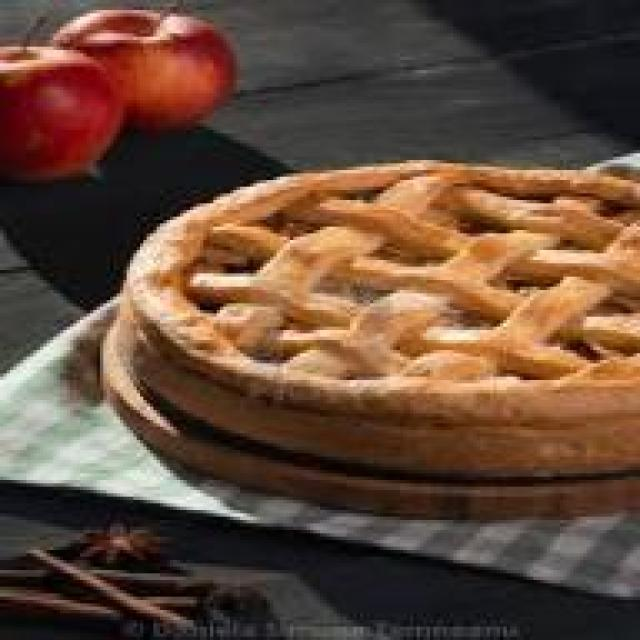apple: (70, 7, 257, 133), (3, 37, 124, 180)
